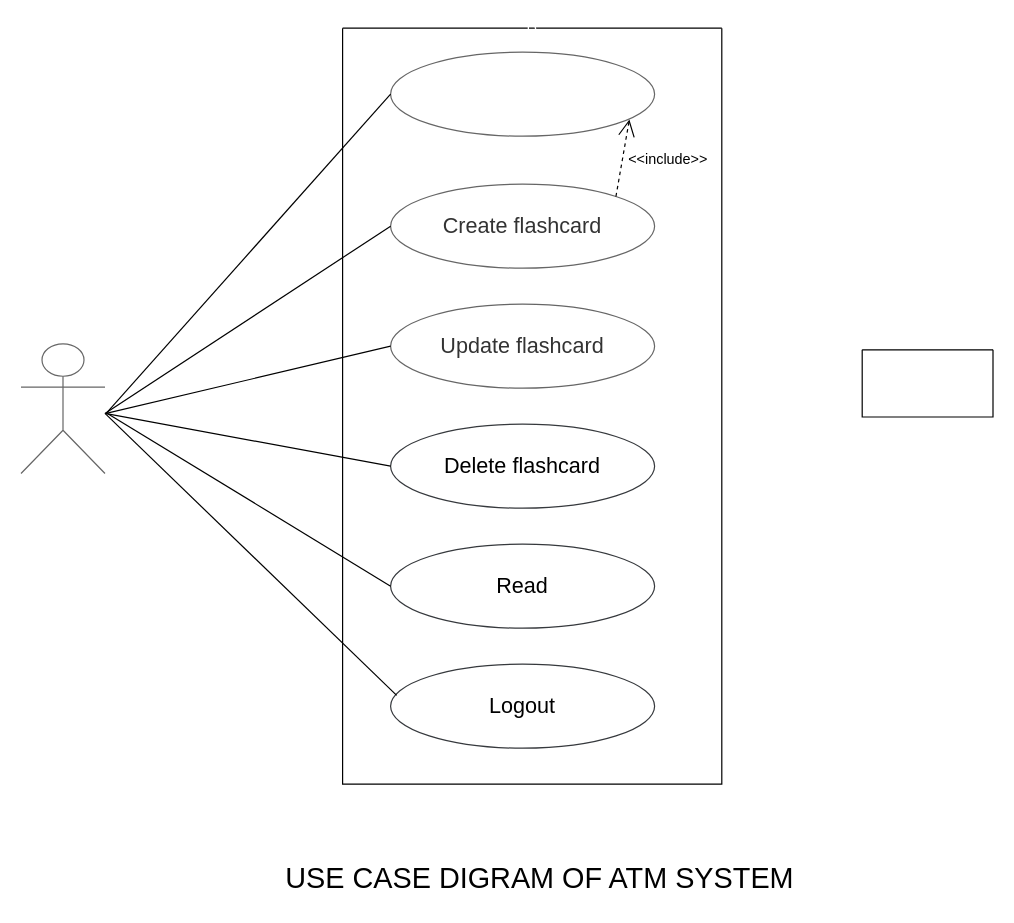
Some shapes in this 1014 by 923 pixel diagram are drawn without their labels. The shapes that lost their labels are listed below. From the top down, each one's box as (x1, y1, x2, y2) in pixels, then its label:
(389, 51, 655, 136): Login
(861, 349, 993, 417): System
(20, 343, 105, 474): User
